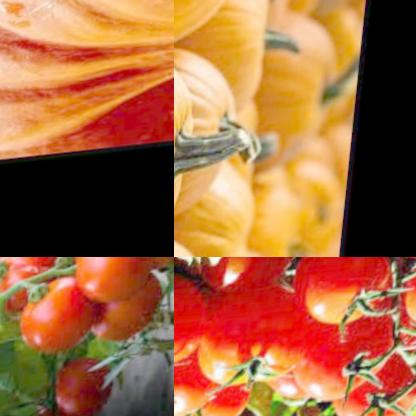pumpkin: (229, 0, 372, 257), (0, 0, 174, 169), (174, 0, 294, 123), (174, 46, 249, 234), (174, 30, 216, 257), (174, 165, 263, 257), (174, 0, 259, 61)
tomato: (190, 282, 317, 411), (275, 321, 398, 415), (291, 257, 407, 340), (10, 270, 106, 368), (87, 263, 174, 352), (46, 354, 127, 416), (203, 257, 309, 302), (332, 363, 416, 416), (71, 257, 165, 304), (174, 276, 212, 385), (174, 341, 227, 416), (175, 370, 259, 416), (0, 257, 63, 310), (396, 257, 416, 359), (53, 257, 111, 287)
